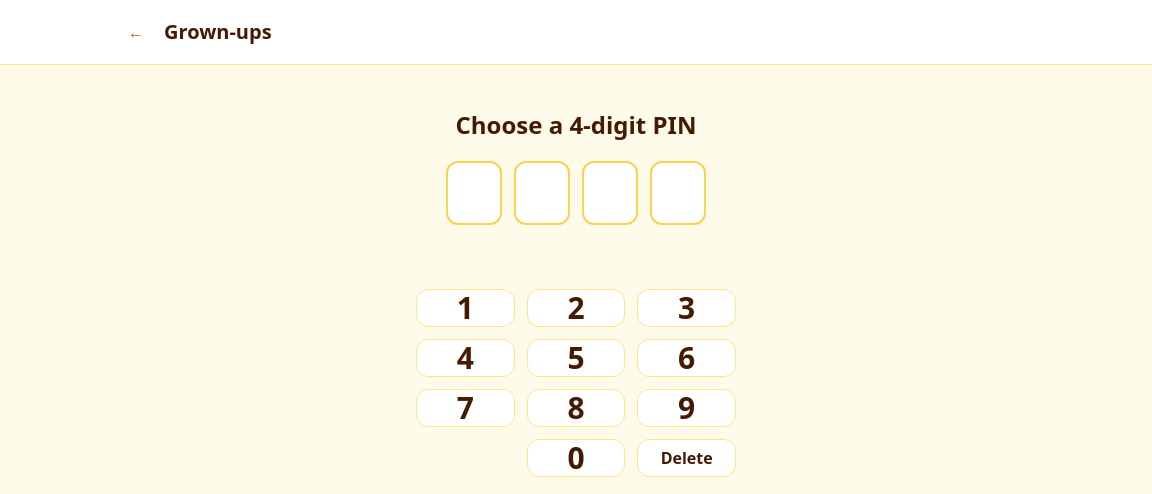
Test case: ParentGate › on first open asks to choose a PIN, then to type it again
Check: the heading "Choose a 4-digit PIN" is shown, box [456,108,696,141]
Click the button "1".
click(465, 308)  # box [416,289,515,327]
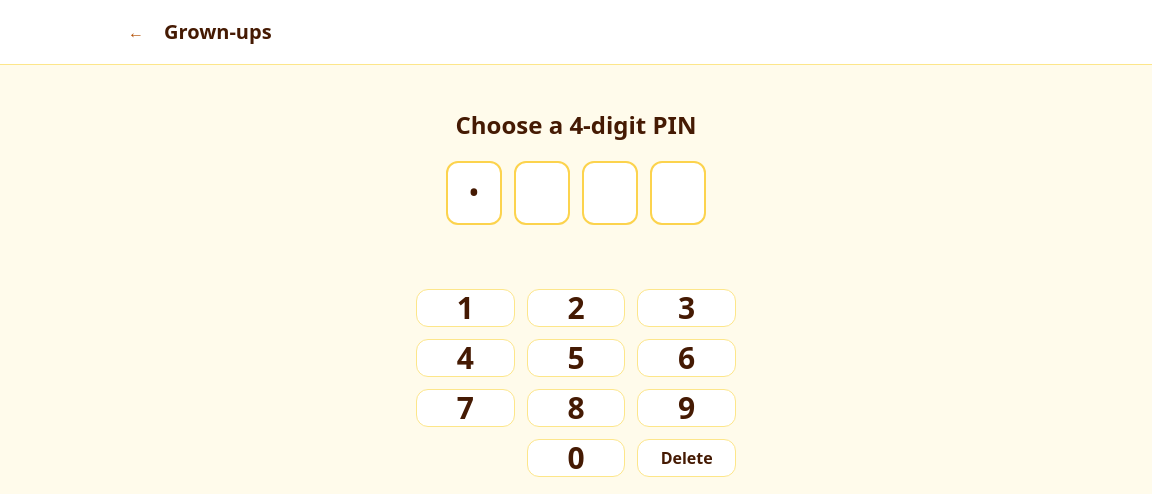
Click the button "2".
click(576, 308)  # box [527,289,625,327]
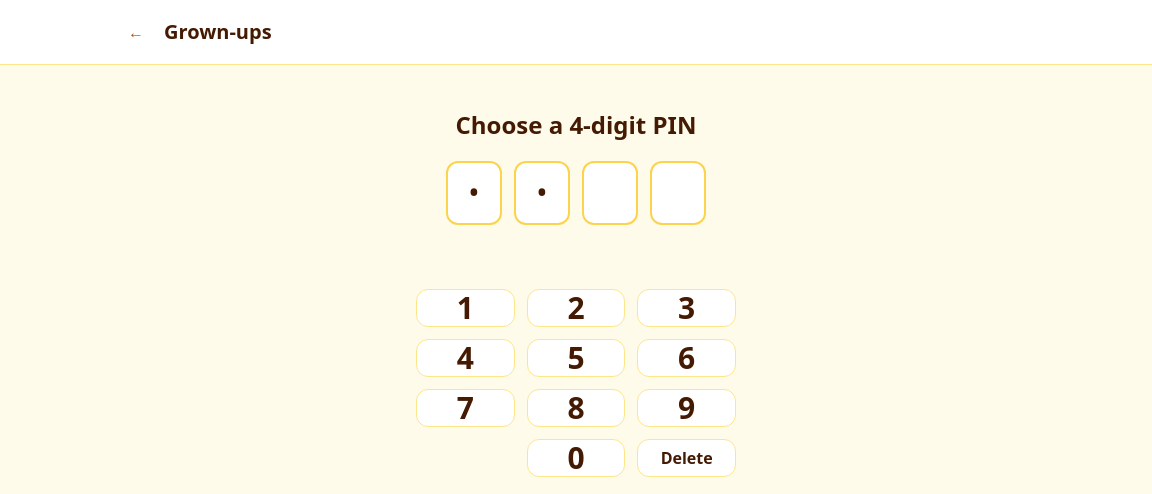
Click the button "3".
click(687, 308)  # box [637,289,736,327]
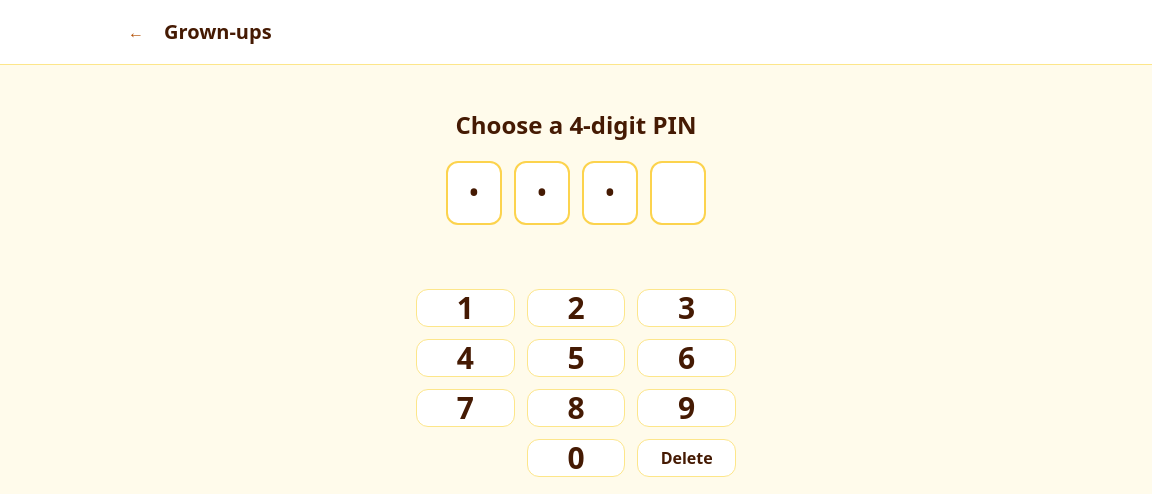
Click the button "4".
click(465, 358)  # box [416,339,515,377]
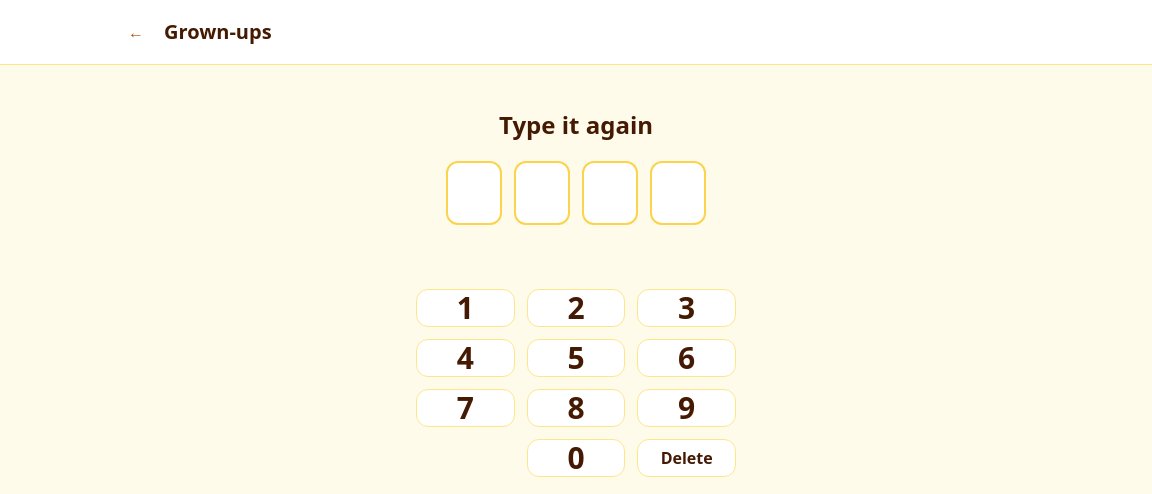
Check: the heading "Type it again" is shown, box [499,108,653,141]
